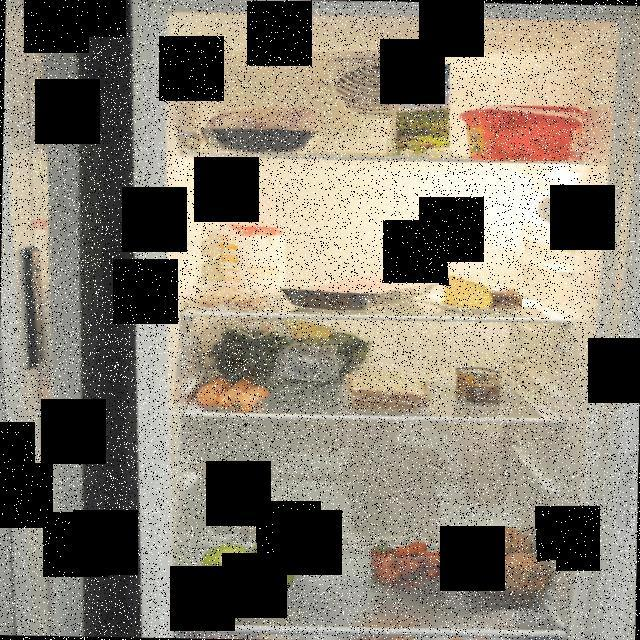apple: (192, 534, 310, 597)
bread: (339, 366, 431, 409)
butter: (456, 101, 582, 161)
carrot: (192, 376, 276, 414)
cheese: (440, 270, 522, 309)
chicken: (201, 100, 330, 156)
corn: (452, 364, 502, 407)
ground_beef: (280, 274, 440, 314)
milk: (384, 60, 452, 160)
spinach: (208, 322, 374, 394)
strawberries: (364, 538, 457, 594)
sugar: (216, 220, 290, 298)
sweet_potato: (446, 526, 556, 610)
